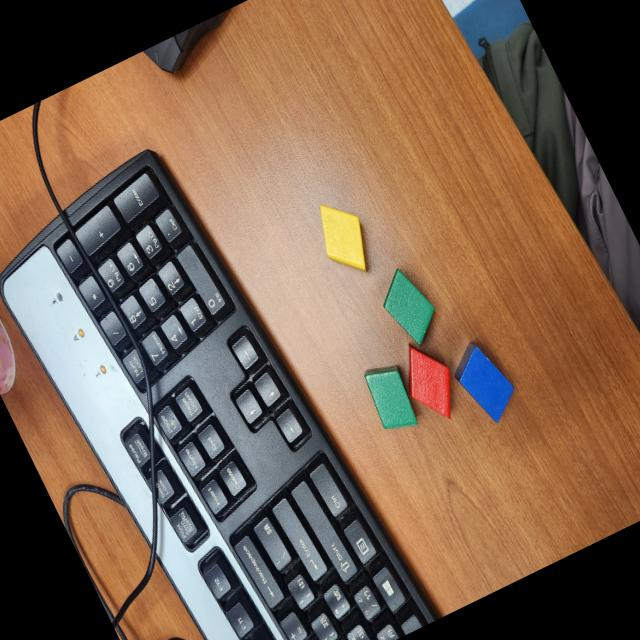blue: (444, 332, 526, 432)
green: (370, 260, 447, 353), (356, 355, 426, 440)
red: (388, 332, 471, 432)
yellow: (305, 192, 382, 284)
